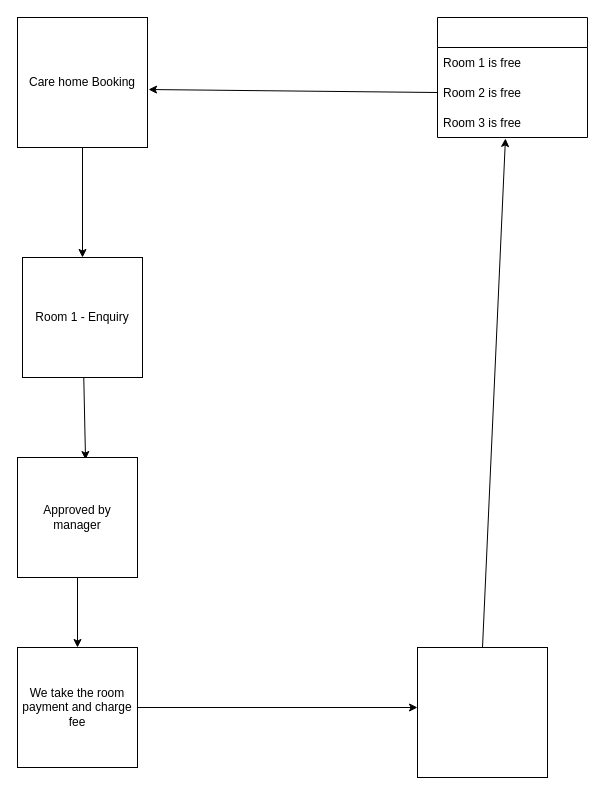
Some shapes in this 605 by 795 pixel diagram are drawn without their labels. Here are the shapes that lost their labels. From the top down, the box of each, then its label:
(436, 16, 588, 138): Cool Care Rooms
(416, 646, 548, 778): Update Cool Care
